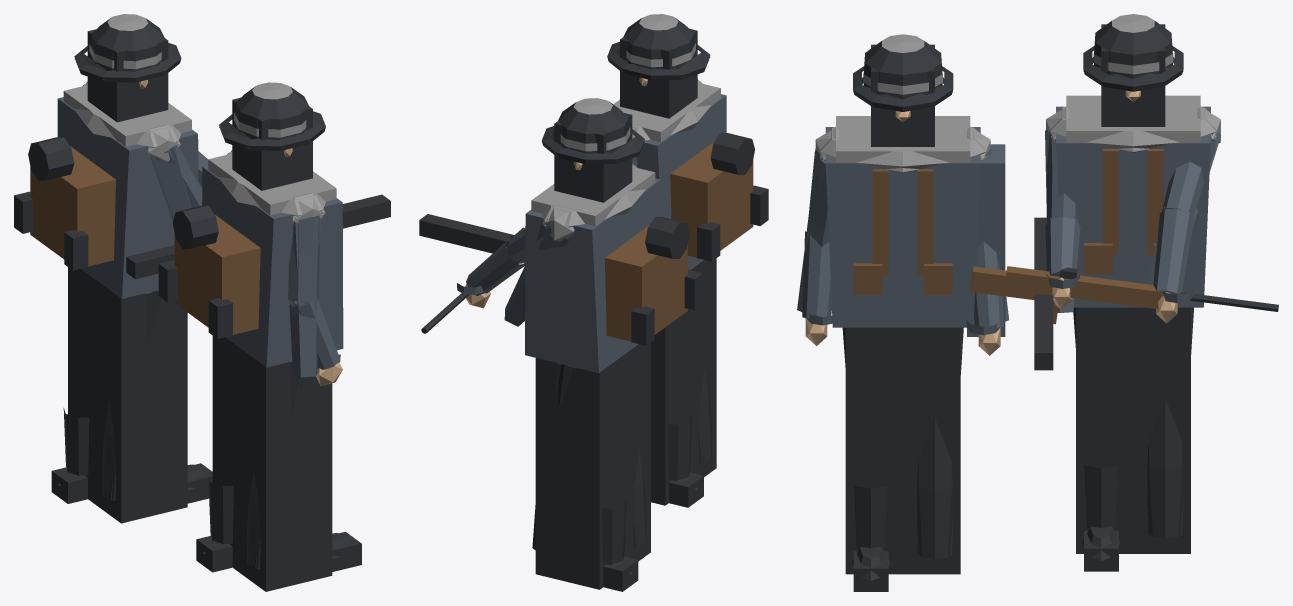
The model's file is veyran_demolition_team.glb.
3 renders of one model, left to right at view 1: azimuth 30°, elevation 25°; view 2: azimuth 150°, elevation 25°; view 3: azimuth 270°, elevation 25°, orthographic. The views are drawn at different scales.
Parts seen in each view (by area): view 1: leg_l (×3), leg_l_2 (×3), torso_2 (×2), torso (×2), head (×2), head_2 (×2), arm_r_2 (×2), arm_r (×3), leg_r (×2), leg_r_2 (×2); view 2: torso (×3), leg_l (×3), torso_2 (×2), leg_l_2 (×3), head (×2), head_2 (×2), arm_l (×2), arm_r (×2), leg_r, leg_r_2; view 3: torso_2 (×3), leg_l_2 (×2), leg_l (×2), torso (×2), arm_r (×3), head (×2), head_2 (×2), arm_l_2 (×2), arm_l, arm_r_2 (×2), leg_r_2 (×2), leg_r (×2).
Part boxes in pixels (x1,y1,x2,y2): leg_l (×3): (51,267,187,523); leg_l_2 (×3): (196,336,332,591); torso_2 (×2): (158,152,343,367); torso (×2): (14,83,198,298); head (×2): (74,14,181,122); head_2 (×2): (219,82,325,190); arm_r_2 (×2): (287,193,342,385); arm_r (×3): (126,124,390,279); leg_r (×2): (101,290,212,503); leg_r_2 (×2): (245,362,361,571); torso (×3): (525,165,703,372); leg_l (×3): (532,342,650,591); torso_2 (×2): (613,81,768,269); leg_l_2 (×3): (651,258,716,507); head (×2): (541,98,644,202); head_2 (×2): (607,14,710,118); arm_l (×2): (456,205,574,326); arm_r (×2): (419,163,633,333); leg_r: (633,451,646,546); leg_r_2: (698,366,712,462); torso_2 (×3): (820,116,986,327); leg_l_2 (×2): (845,327,963,574); leg_l (×2): (1076,307,1193,553); torso (×2): (1050,95,1216,307); arm_r (×3): (970,107,1278,370); head (×2): (1083,14,1183,126); head_2 (×2): (853,34,953,146); arm_l_2 (×2): (966,127,1005,355); arm_l: (1153,107,1220,323); arm_r_2 (×2): (797,127,838,345); leg_r_2 (×2): (842,327,890,591); leg_r (×2): (1073,307,1120,571).
Size of the model in its own units: 1.2 by 1.77 by 1.51.
